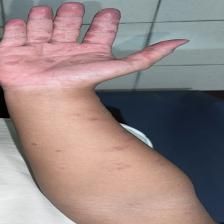Dermatitis numularis: (98, 144, 126, 154)
